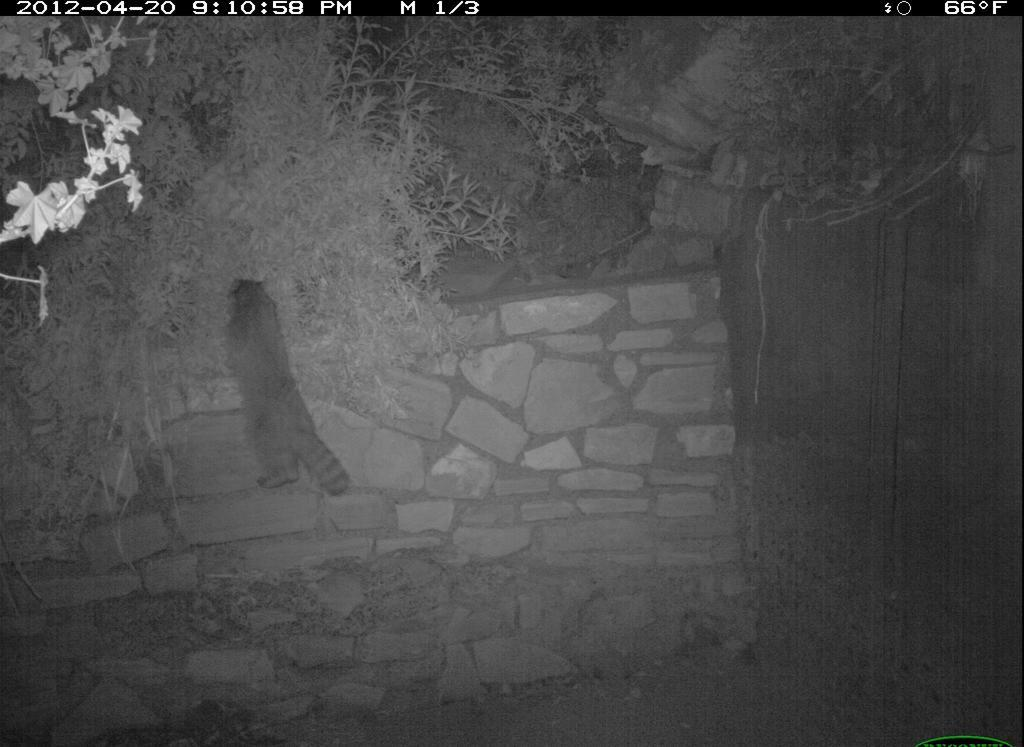raccoon: (225, 274, 361, 505)
